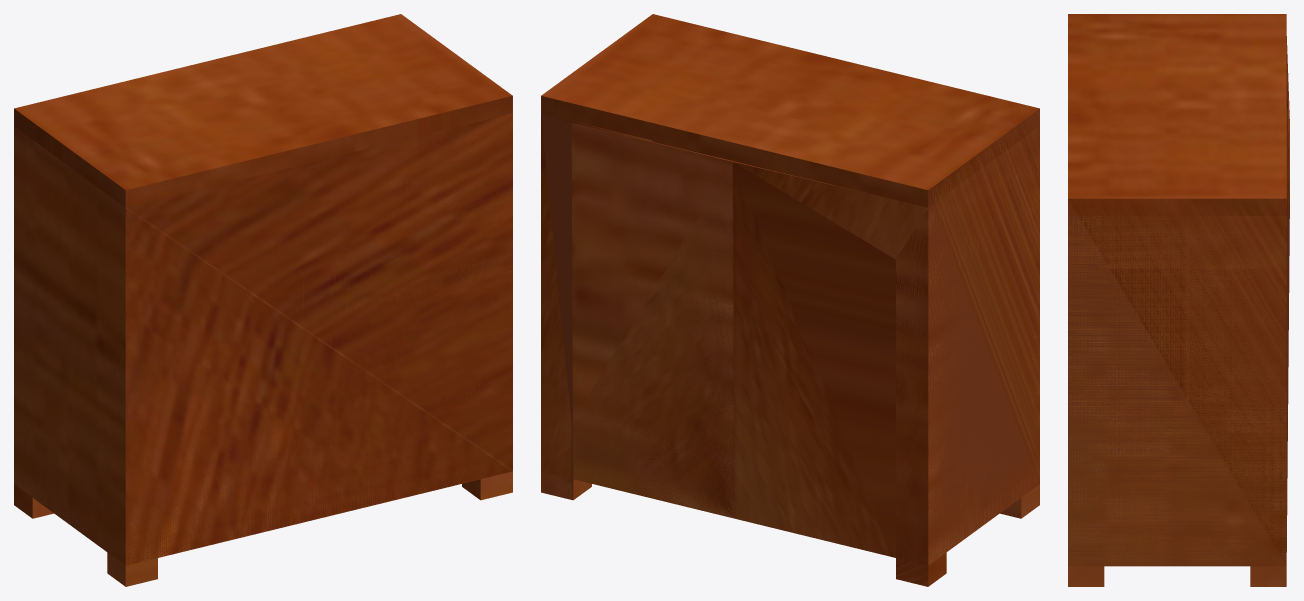
Rendered from ChairTable Model.fbx.
The picture shows the model from 3 angles, left to right: view 1: azimuth 30°, elevation 25°; view 2: azimuth 150°, elevation 25°; view 3: azimuth 270°, elevation 25°; orthographic projection. The views are drawn at different scales.
Visible parts, largest first — view 1: Cube; view 2: Cube; view 3: Cube.
Part boxes in pixels (x1=…): Cube: x1=14, y1=14, x2=512, y2=586; Cube: x1=541, y1=14, x2=1039, y2=586; Cube: x1=1068, y1=14, x2=1289, y2=586.
Size of the model in its own units: 85.62 by 83.85 by 43.46.
Materials: 1 (1 with a texture image).
